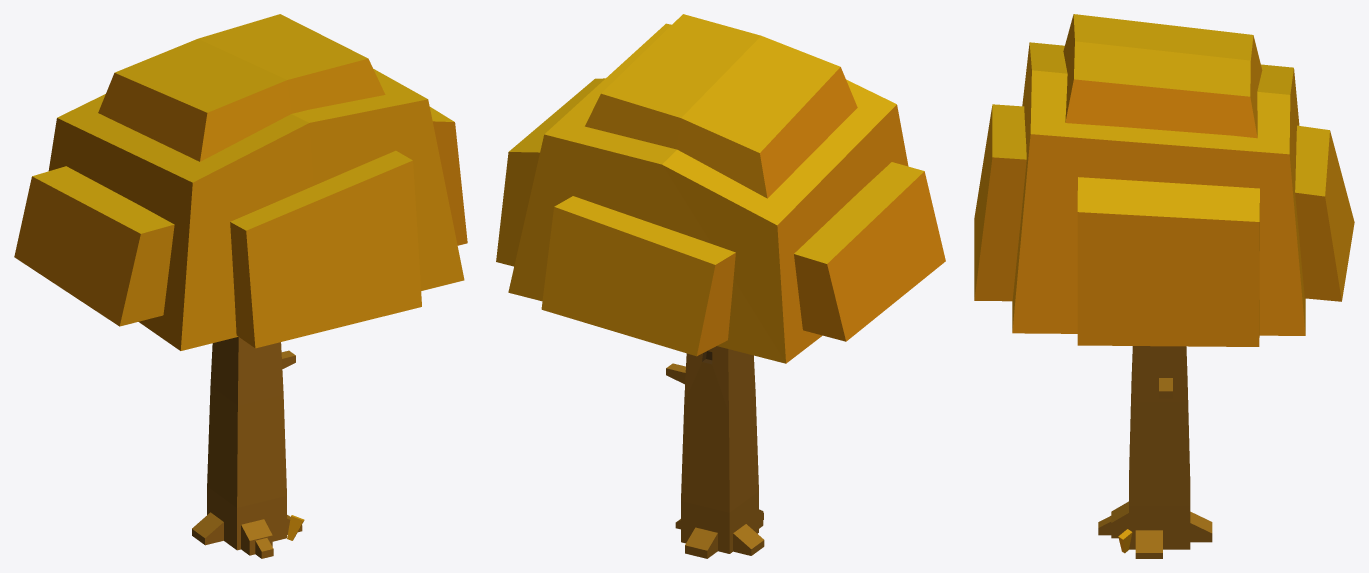
Rendered from SF_Env_Tree_Fall_04.fbx.
3 views of the same model, side by side, from view 1: azimuth 30°, elevation 25°; view 2: azimuth 150°, elevation 25°; view 3: azimuth 270°, elevation 25° (orthographic). The views are drawn at different scales.
Visible parts, largest first — view 1: SF_Env_Tree_Fall_04; view 2: SF_Env_Tree_Fall_04; view 3: SF_Env_Tree_Fall_04.
Part boxes in pixels (bbox=[...]): SF_Env_Tree_Fall_04: bbox=[14, 14, 467, 558]; SF_Env_Tree_Fall_04: bbox=[496, 14, 945, 558]; SF_Env_Tree_Fall_04: bbox=[974, 14, 1354, 558].
Size of the model in its own units: 5.51 by 7.1 by 4.9.
